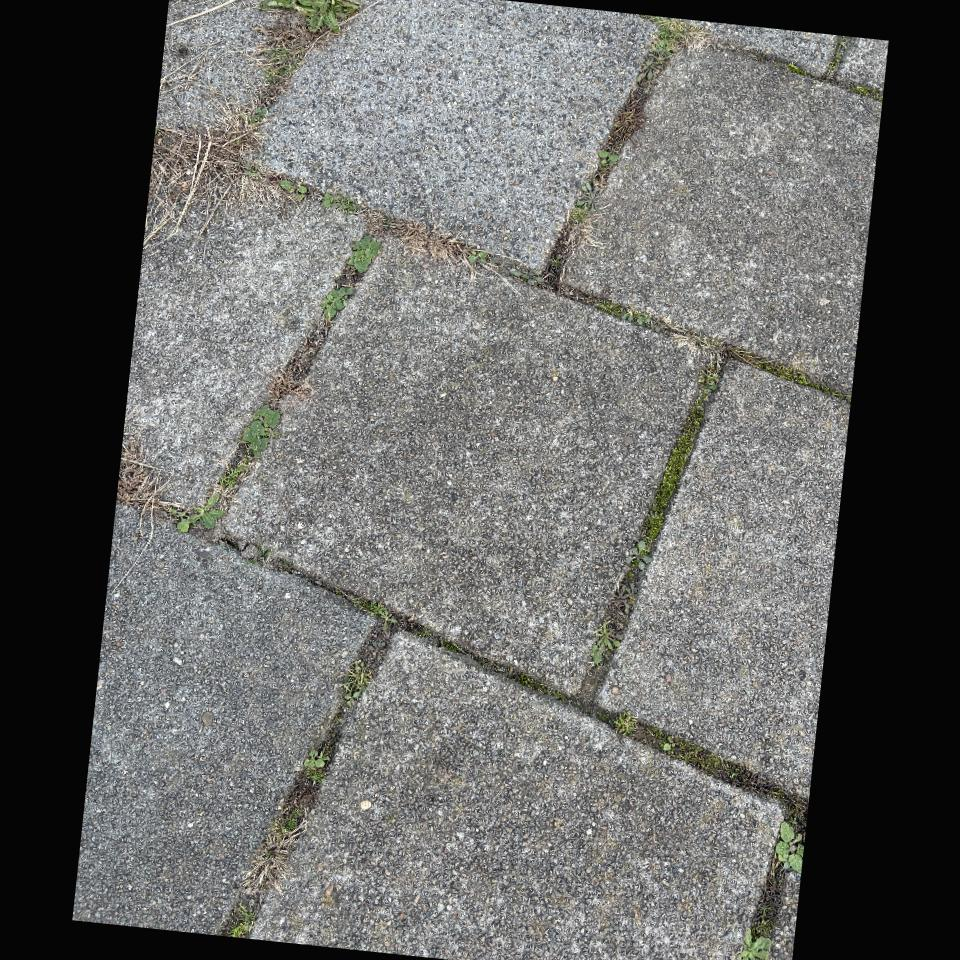weed: (642, 368, 718, 550), (243, 802, 306, 903), (382, 217, 476, 264), (259, 0, 359, 33), (650, 16, 708, 71), (669, 328, 727, 372), (241, 405, 280, 458), (177, 494, 223, 532), (775, 821, 803, 872), (355, 600, 396, 633), (342, 660, 371, 706), (591, 620, 620, 665), (346, 236, 381, 272), (219, 449, 249, 488), (737, 927, 770, 960), (227, 903, 255, 938), (303, 749, 328, 781), (322, 192, 358, 214), (614, 711, 637, 735), (624, 560, 646, 578), (568, 207, 589, 224), (661, 742, 672, 751)
